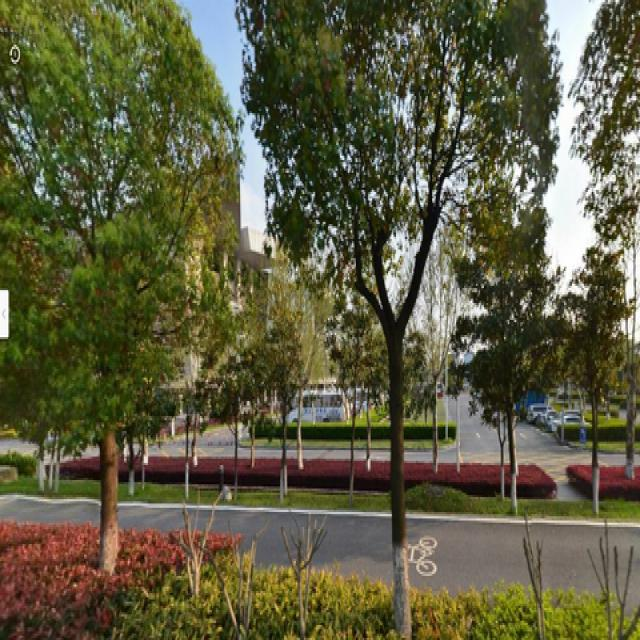cinn: (276, 11, 484, 614), (19, 13, 208, 561)
